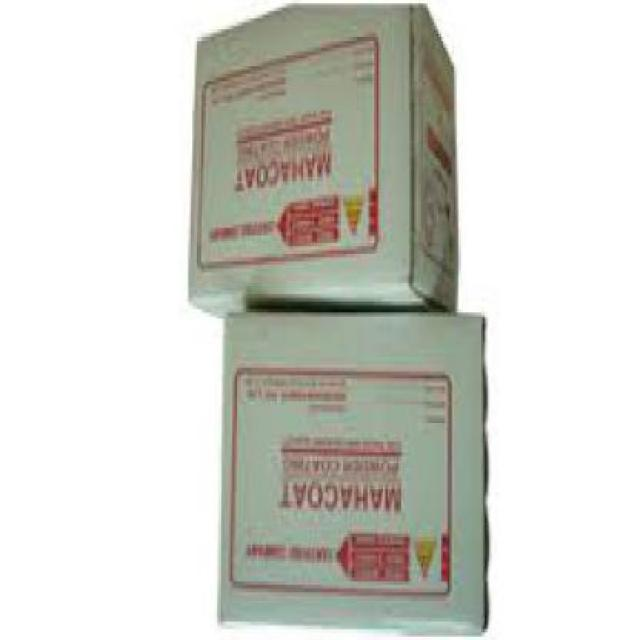CARDBOARD: (222, 312, 492, 638), (193, 4, 458, 327)
